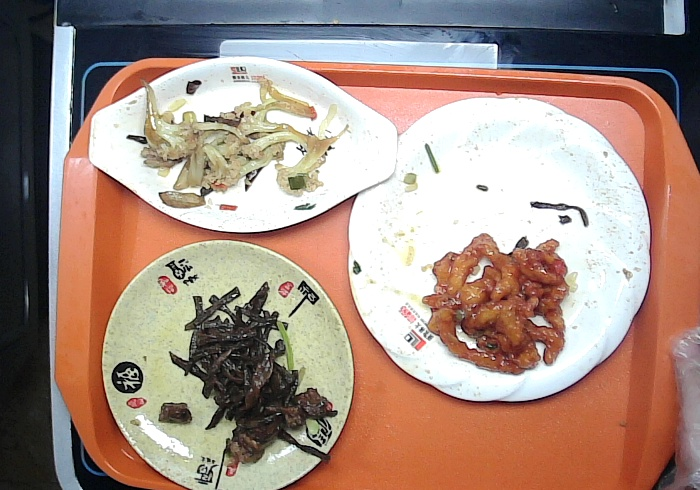NLDX-Bai_Zhe_Yuan_Pan: (350, 94, 658, 411)
NLDX-Fu_Zi_Yuan_Pan: (98, 239, 369, 490)
NLDX-Yu_Pan: (81, 66, 405, 240)
